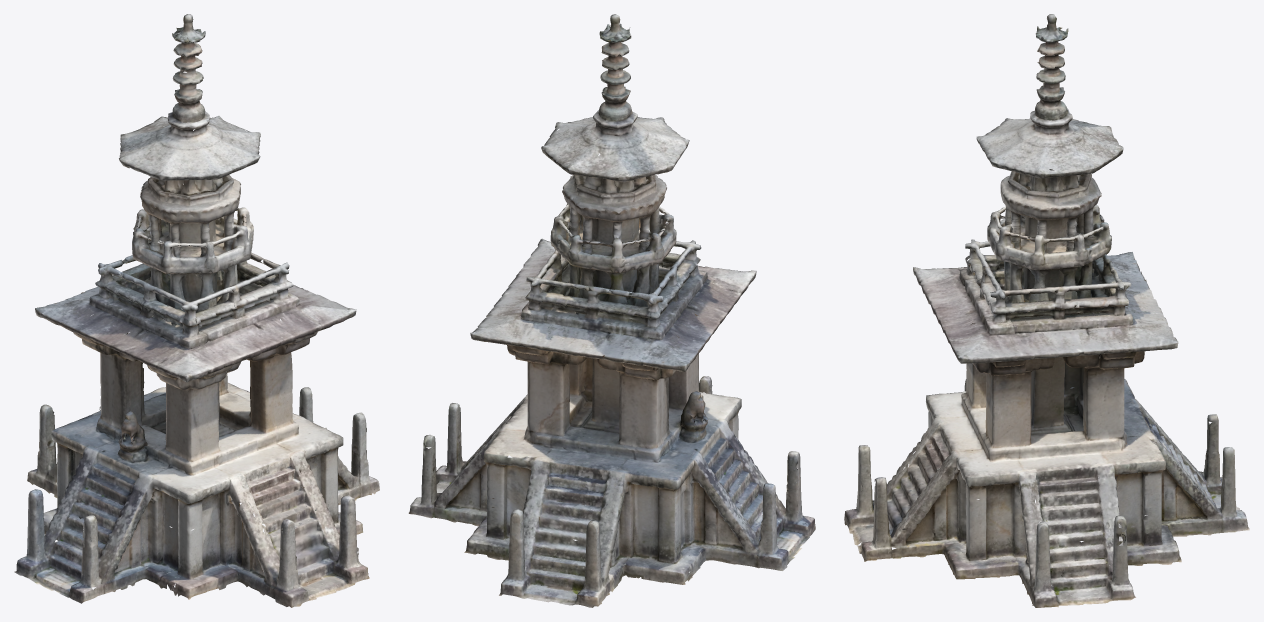
File: bulguksa-dabotap.glb
3 renders of one model, left to right at view 1: azimuth 30°, elevation 25°; view 2: azimuth 150°, elevation 25°; view 3: azimuth 270°, elevation 25°, orthographic.
Visible parts, largest first — view 1: Dabotap; view 2: Dabotap; view 3: Dabotap.
Boxes of the visible parts, x1,y1,x2,y2 form: Dabotap: (14,14,379,607); Dabotap: (408,14,815,607); Dabotap: (844,14,1249,607).
Bounding box in the file's own units: 7.35 × 10.24 × 7.4.
Materials: 1 (1 with a texture image).
